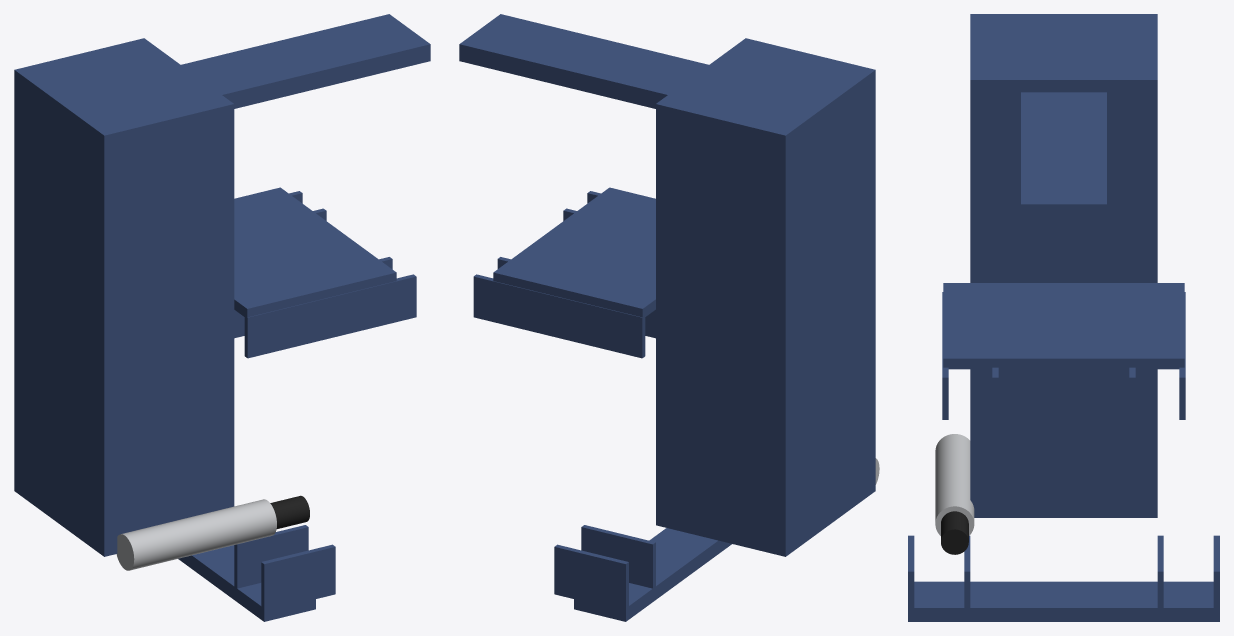
Rendered from chassis.glb.
3 views of the same model, side by side, from view 1: azimuth 30°, elevation 25°; view 2: azimuth 150°, elevation 25°; view 3: azimuth 270°, elevation 25° (orthographic). The views are drawn at different scales.
Visible parts, largest first — view 1: body_0, steel_1, bush_2; view 2: body_0; view 3: body_0, steel_1, bush_2.
Boxes of the visible parts, x1,y1,x2,y2 form: body_0: [14, 14, 430, 621]; steel_1: [116, 499, 276, 570]; bush_2: [270, 495, 309, 528]; body_0: [459, 14, 875, 621]; body_0: [908, 14, 1219, 621]; steel_1: [935, 434, 974, 535]; bush_2: [941, 511, 968, 554].
Bounding box in the file's own units: 0.54 × 0.73 × 0.4.
